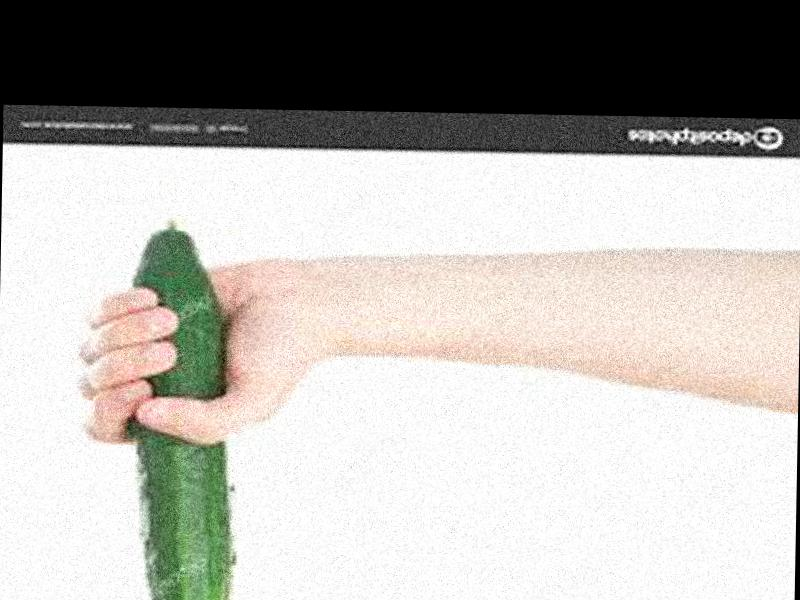Cucumber: (126, 221, 238, 600)
